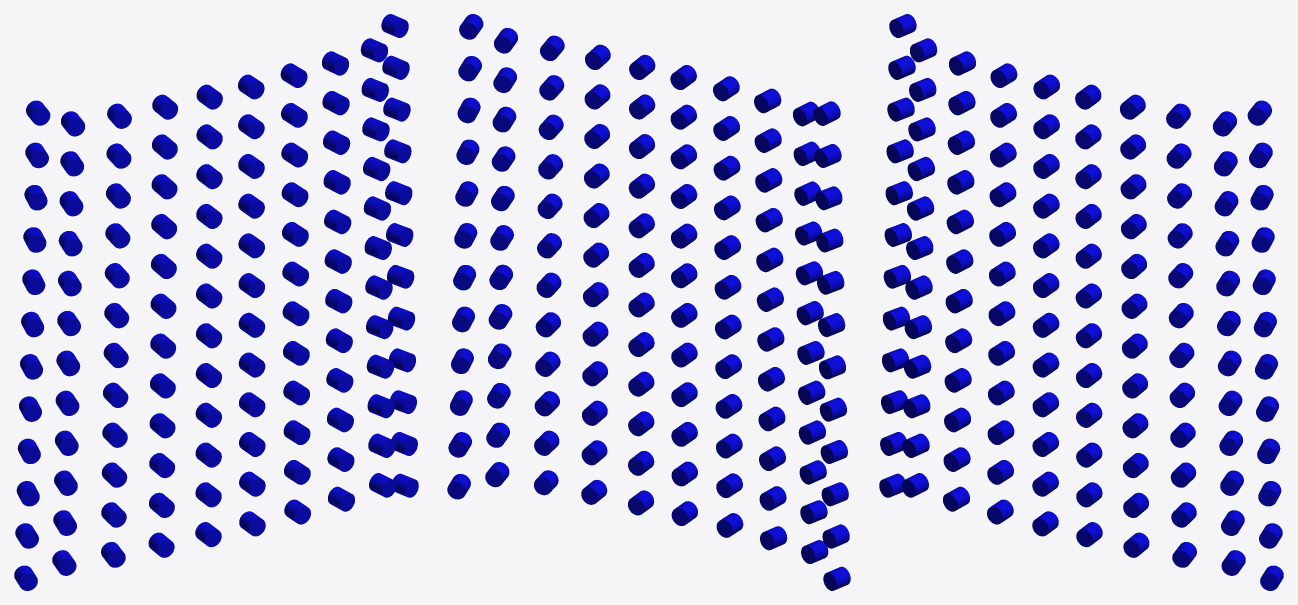
Rendered from left_index_tactile_link_0.obj.
3 views of the same model, side by side, from view 1: azimuth 30°, elevation 25°; view 2: azimuth 150°, elevation 25°; view 3: azimuth 330°, elevation 25° (orthographic).
Size of the model in its own units: 0.0238 by 0.0274 by 0.00266.
